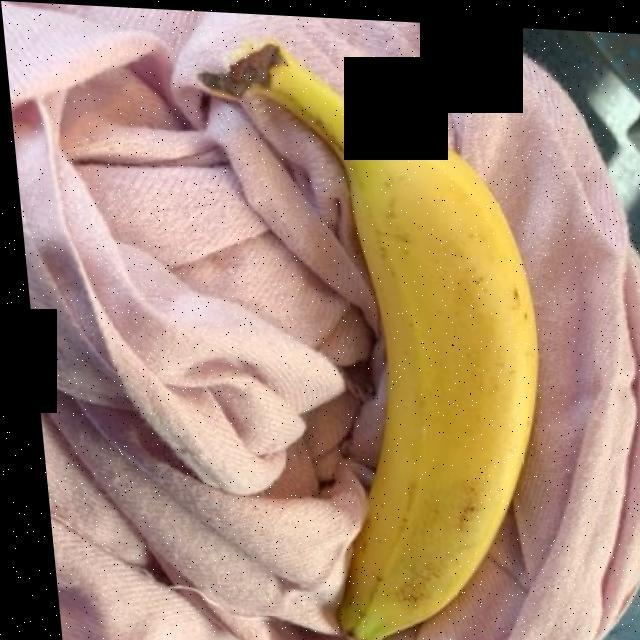banana: (240, 52, 525, 634)
